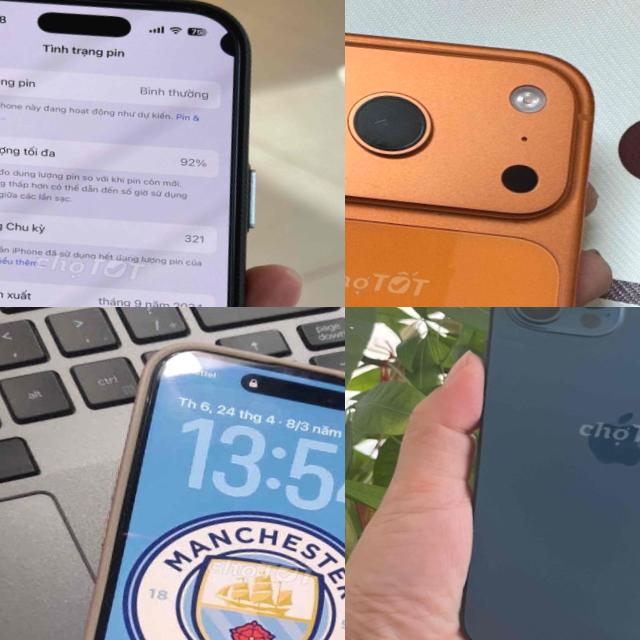screen_defect: (196, 16, 256, 71)
